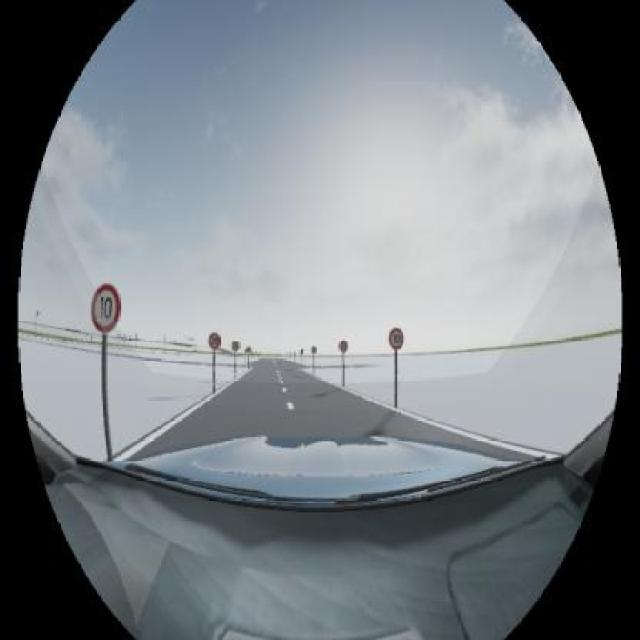forb_speed_over_10: (92, 285, 119, 332), (388, 327, 404, 348)
